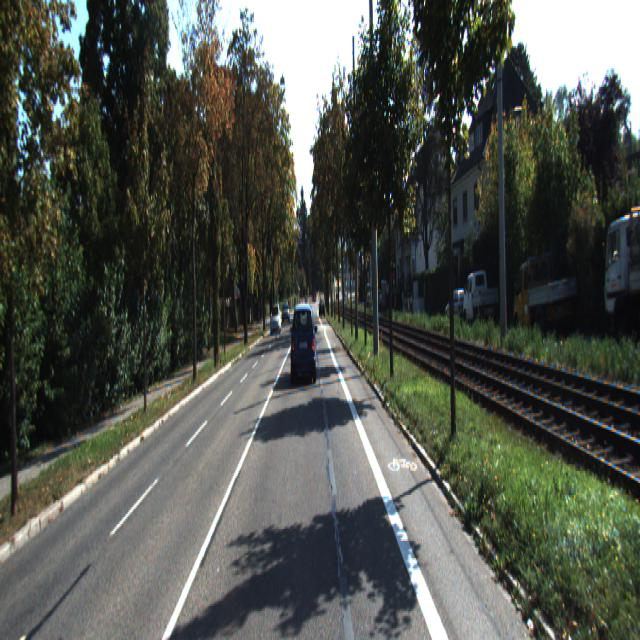Car: (511, 249, 578, 338), (603, 206, 639, 347), (290, 300, 317, 386), (462, 267, 498, 324), (446, 288, 471, 325), (270, 304, 281, 336)
